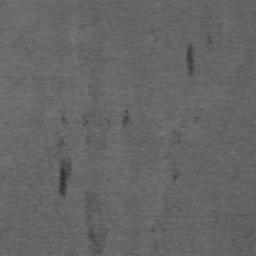Iron scale compression: (58, 161, 70, 198), (87, 225, 102, 252), (188, 47, 194, 76), (121, 111, 129, 127)
